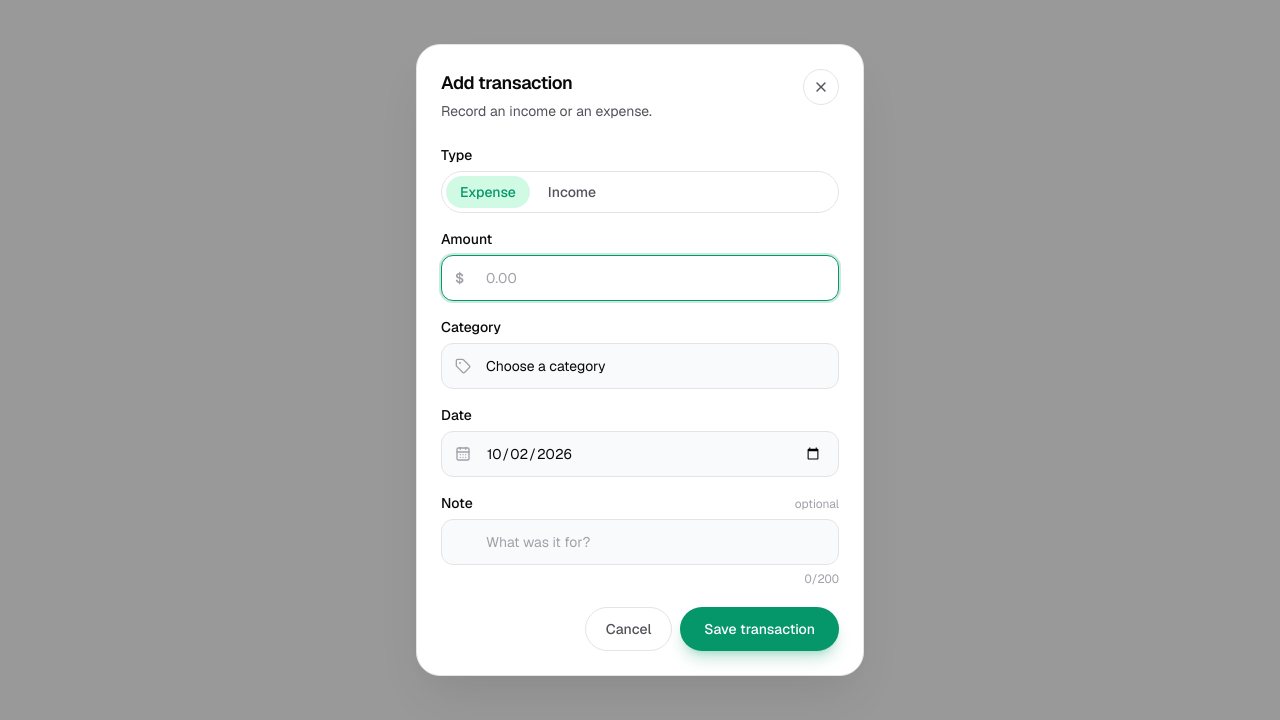
Test: TransactionFormModal › adding a transaction › shows the failure when the save does not go through
The width and height of the screenshot is (1280, 720).
Type "1234.56" into the field labelled "Amount" at [640, 278], box [441,255,839,301]
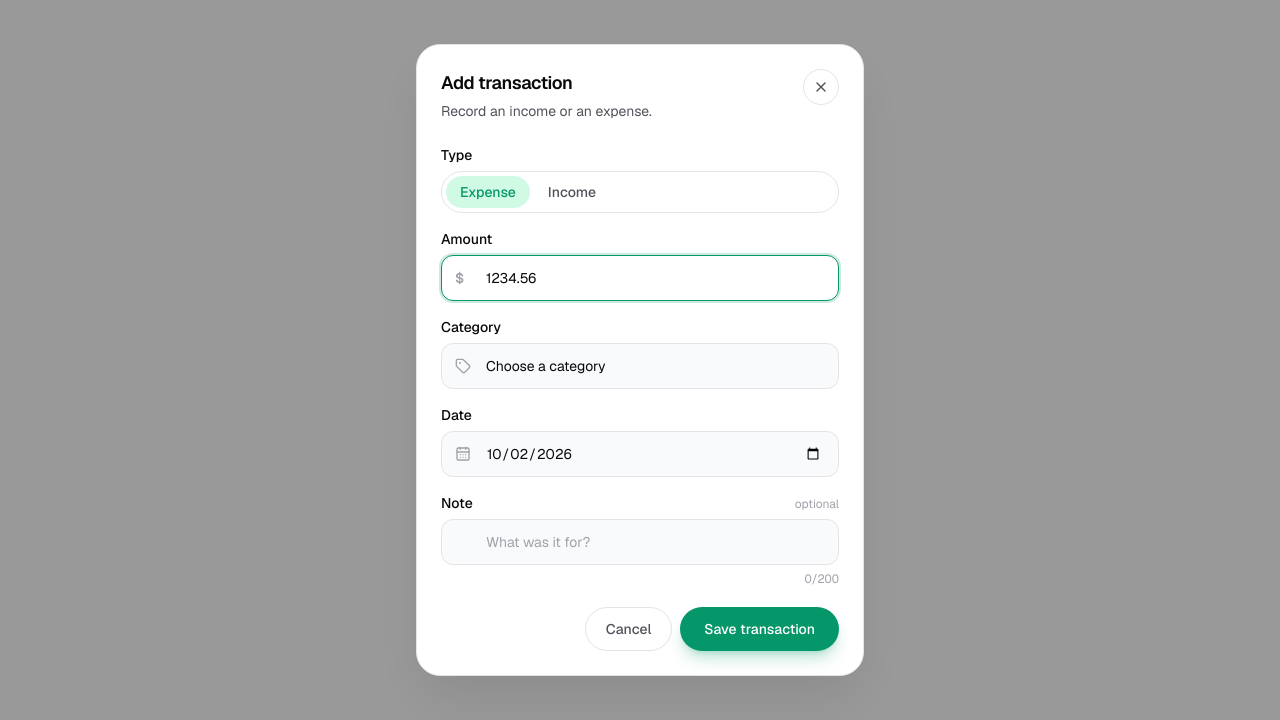
Select "Food & dining" in the dropdown labelled "Category" at [640, 366], box [441,343,839,389]
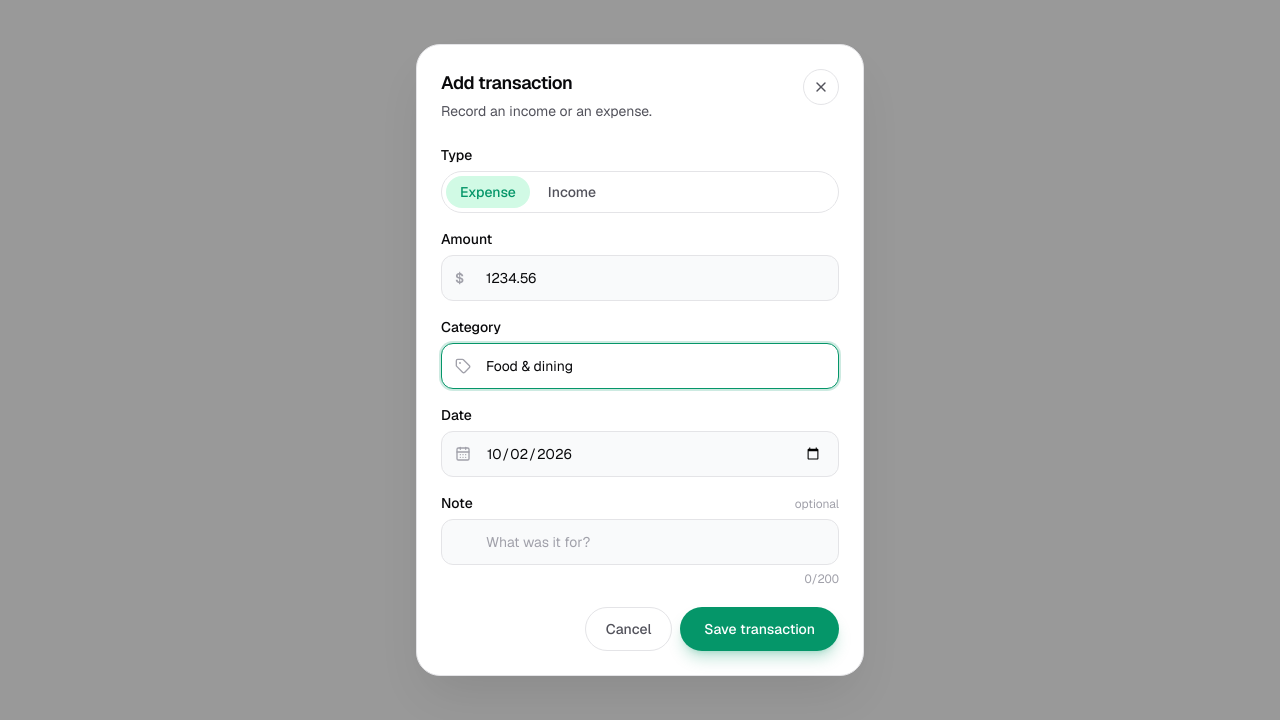
Type "Groceries" into the field labelled "Note" at [640, 542], box [441,519,839,565]
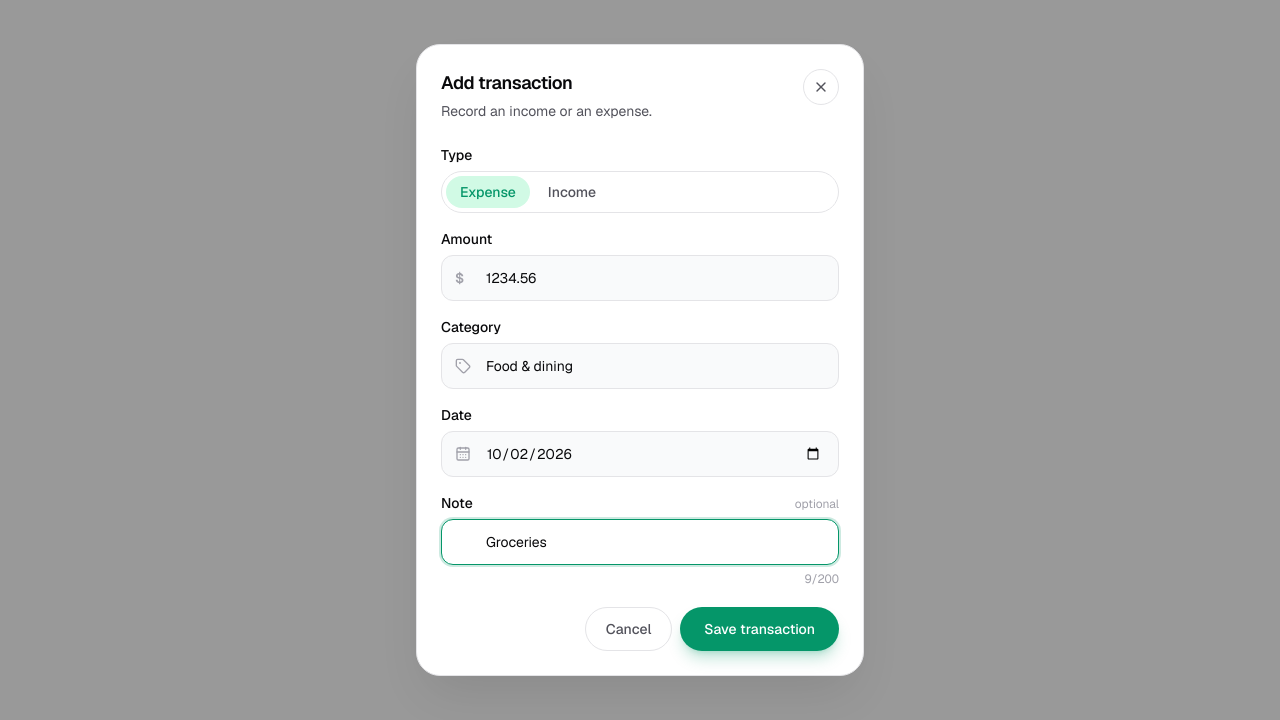
Click the button "Save transaction" at [760, 629], box [680,607,839,651]
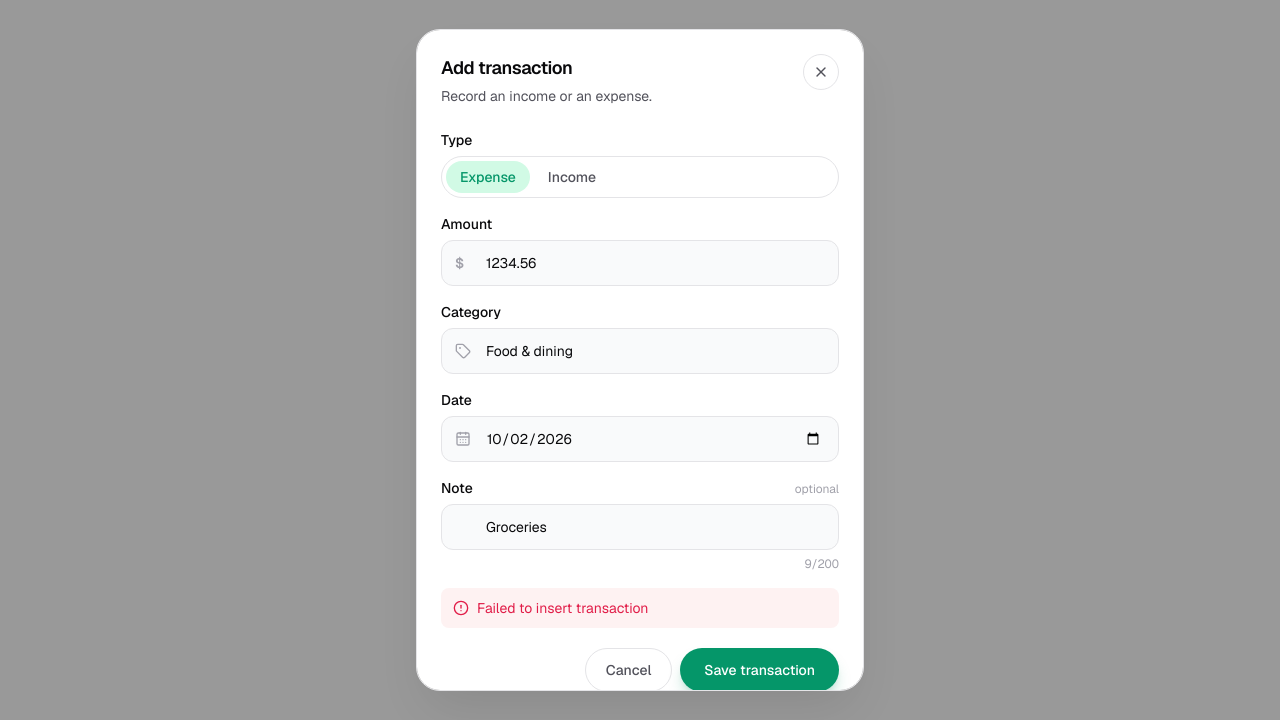
Now the text "Failed to insert transaction" is shown, box [441,588,839,628]
